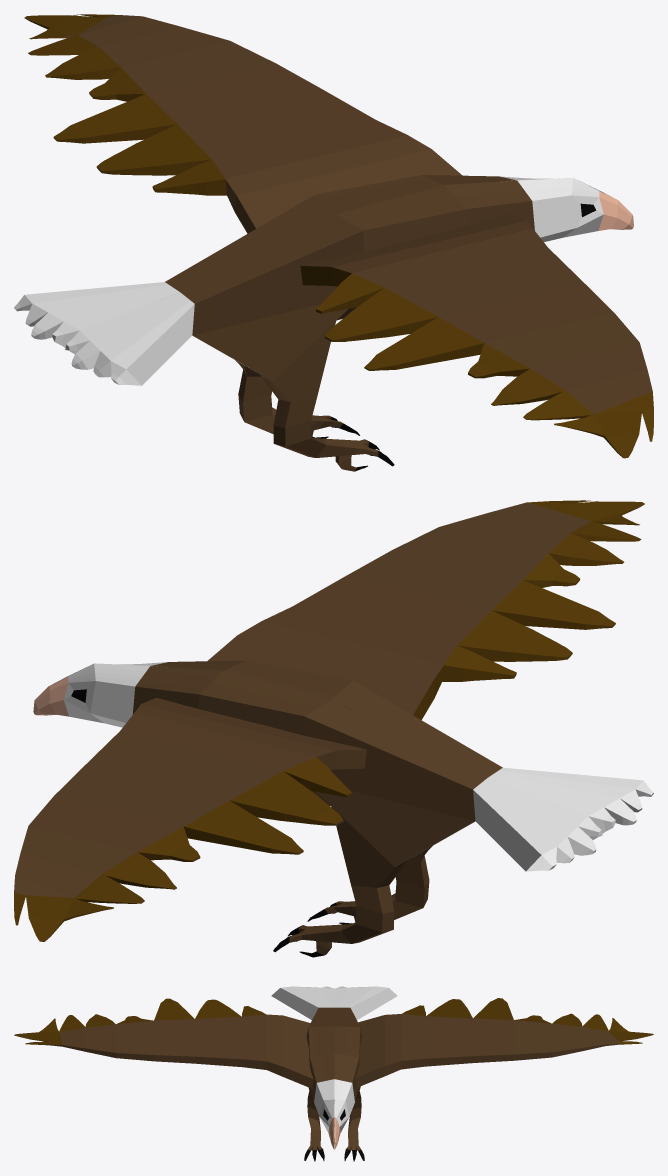
File: Eagle.fbx
The picture shows the model from 3 angles, top to bottom: view 1: azimuth 30°, elevation 25°; view 2: azimuth 150°, elevation 25°; view 3: azimuth 270°, elevation 25°; orthographic projection. The views are drawn at different scales.
Parts seen in each view (by area): view 1: Cube, Wing.001, Wing; view 2: Cube, Wing, Wing.001; view 3: Wing, Wing.001, Cube.
Boxes of the visible parts, left/top/right/bottom form: Cube: left=14, top=175, right=633, bottom=471; Wing.001: left=24, top=14, right=462, bottom=233; Wing: left=300, top=214, right=653, bottom=458; Cube: left=33, top=660, right=653, bottom=957; Wing: left=207, top=500, right=644, bottom=719; Wing.001: left=14, top=697, right=366, bottom=941; Wing: left=14, top=998, right=313, bottom=1088; Wing.001: left=355, top=998, right=653, bottom=1087; Cube: left=271, top=986, right=397, bottom=1161.
Size of the model in its own units: 529 by 213 by 948.
